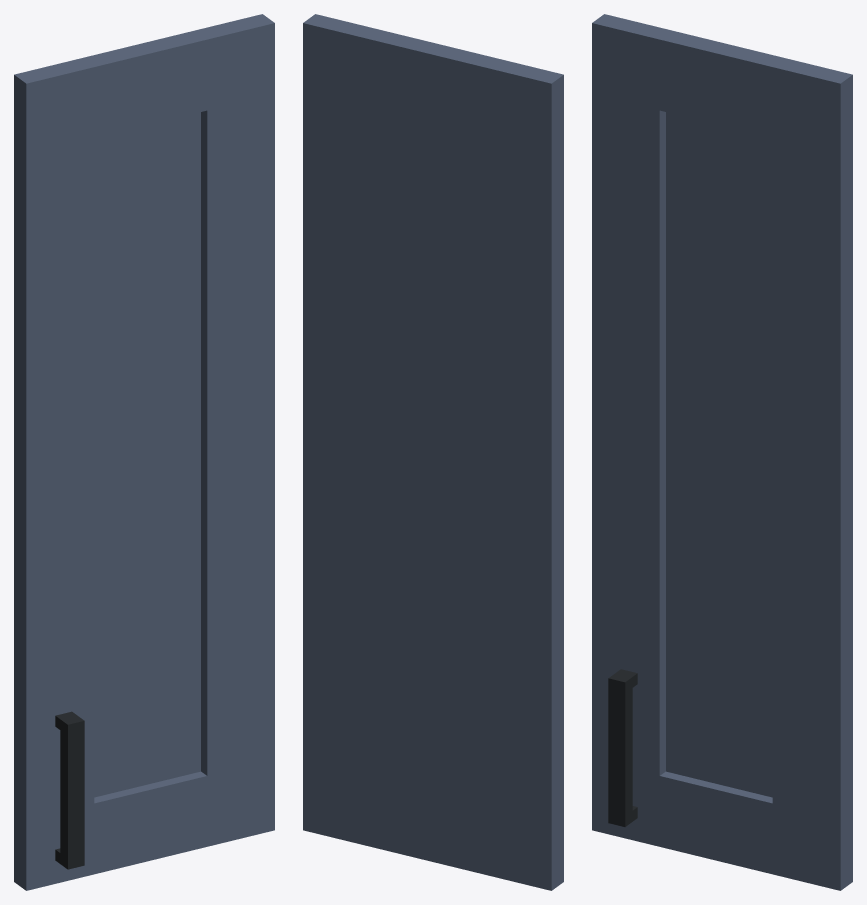
The model's file is Door2_C4_13.fbx.
3 views of the same model, side by side, from view 1: azimuth 30°, elevation 25°; view 2: azimuth 150°, elevation 25°; view 3: azimuth 330°, elevation 25° (orthographic).
Visible parts, largest first — view 1: Door2_C4_13; view 2: Door2_C4_13; view 3: Door2_C4_13.
Boxes of the visible parts, box(x1,y1,x2,y2) form: Door2_C4_13: box(14, 14, 274, 890); Door2_C4_13: box(303, 14, 563, 890); Door2_C4_13: box(592, 14, 852, 890).
Size of the model in its own units: 29 by 90 by 5.03.
